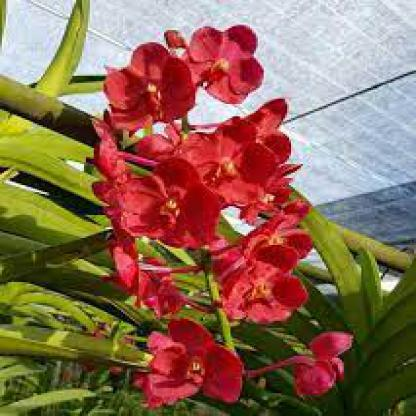ANGGREK: (69, 19, 376, 408)
